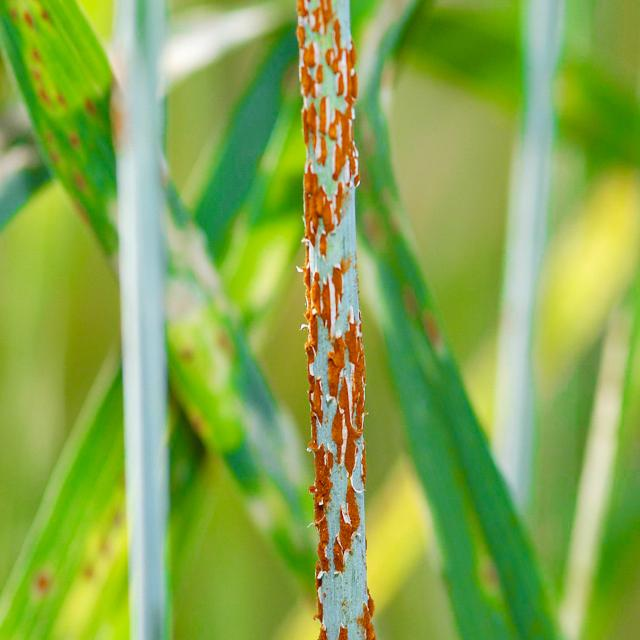wheat-stemrust: (295, 0, 378, 640), (0, 354, 130, 640), (0, 0, 119, 259)
